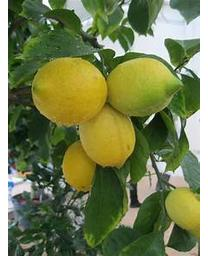lemon: (31, 58, 107, 127), (106, 58, 181, 117), (79, 103, 136, 167), (63, 140, 95, 192)
